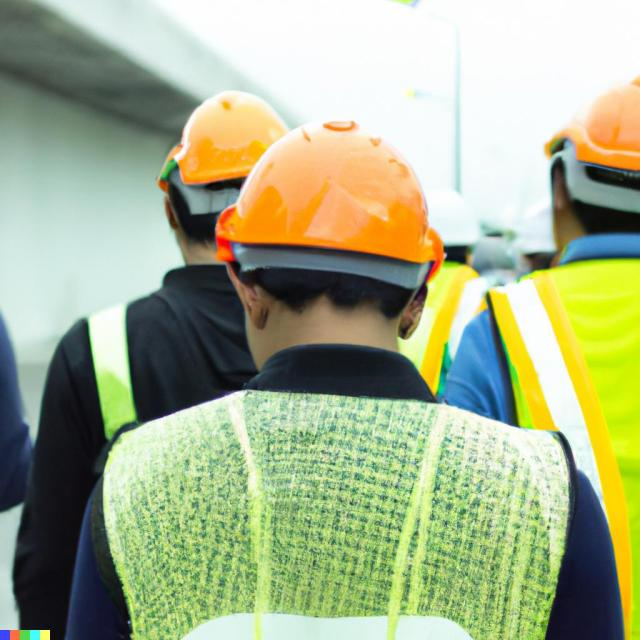Reflective-Jacket: (481, 252, 640, 640)
Safety-Helmet: (213, 120, 446, 278), (165, 84, 291, 188), (540, 61, 638, 190)
